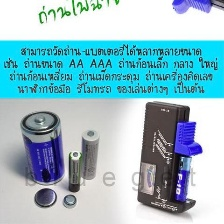battery: (16, 107, 67, 187), (77, 126, 100, 181), (171, 153, 193, 206), (66, 148, 84, 195), (31, 186, 58, 210), (61, 193, 79, 210)
